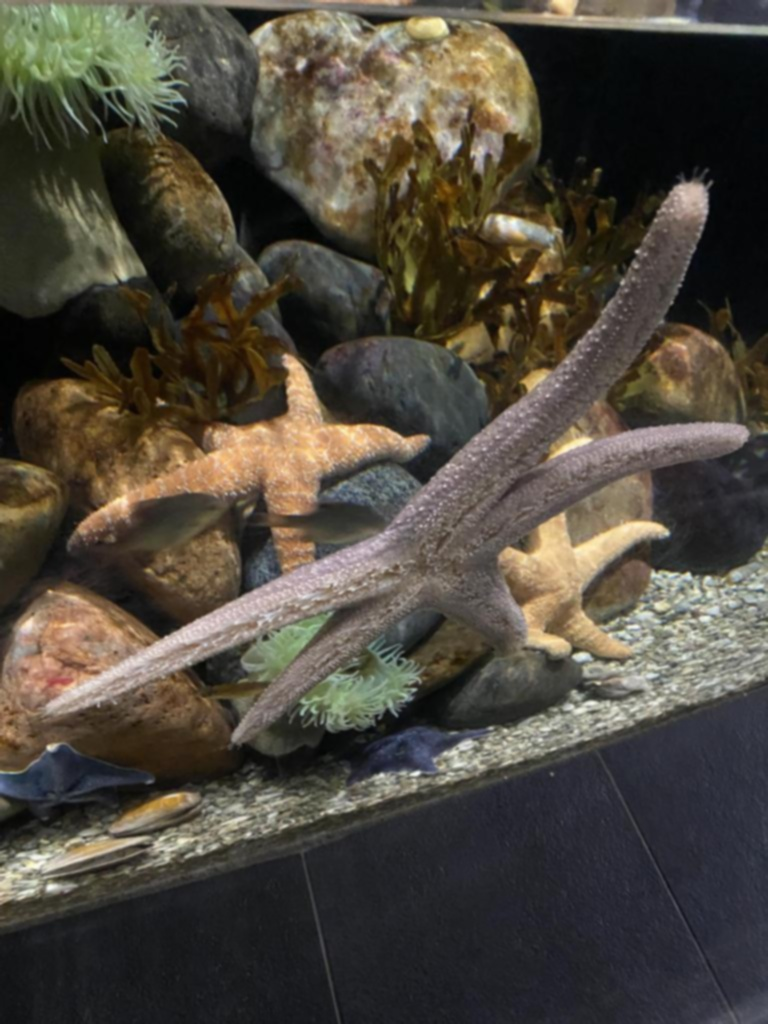starfish: (42, 180, 748, 746), (65, 354, 433, 576), (497, 437, 670, 661), (1, 740, 155, 822), (321, 725, 497, 787)
